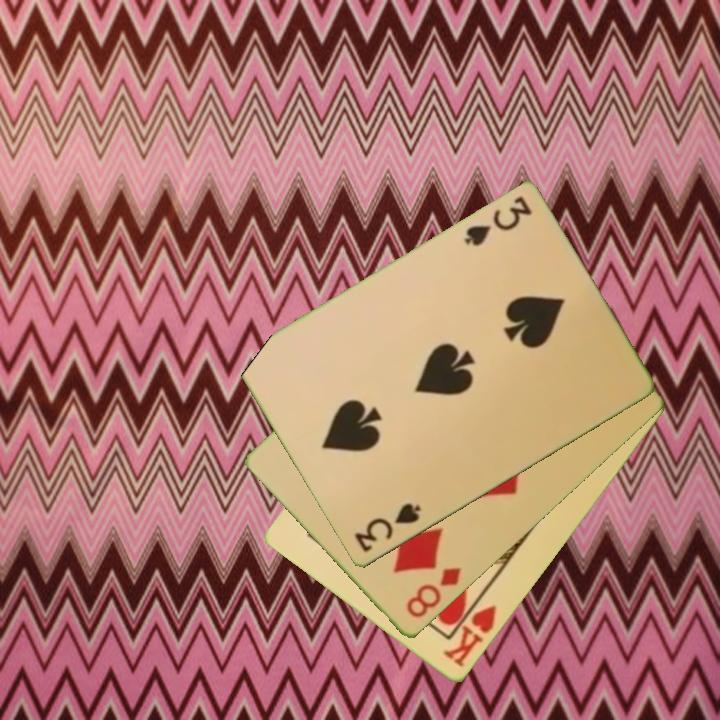3s: (460, 193, 535, 250), (351, 500, 424, 556)
8d: (402, 564, 464, 621)
Kh: (440, 590, 500, 671)
